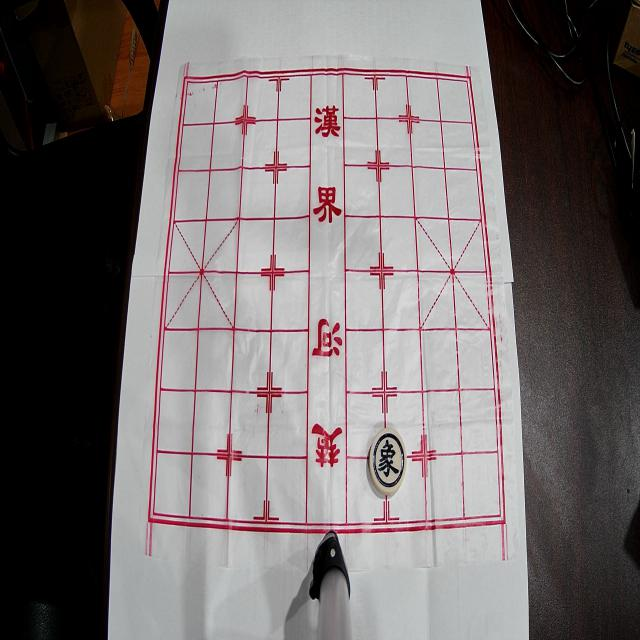black-elephant: (369, 428, 407, 495)
